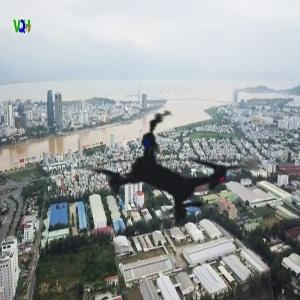drone: (46, 48, 299, 300)
